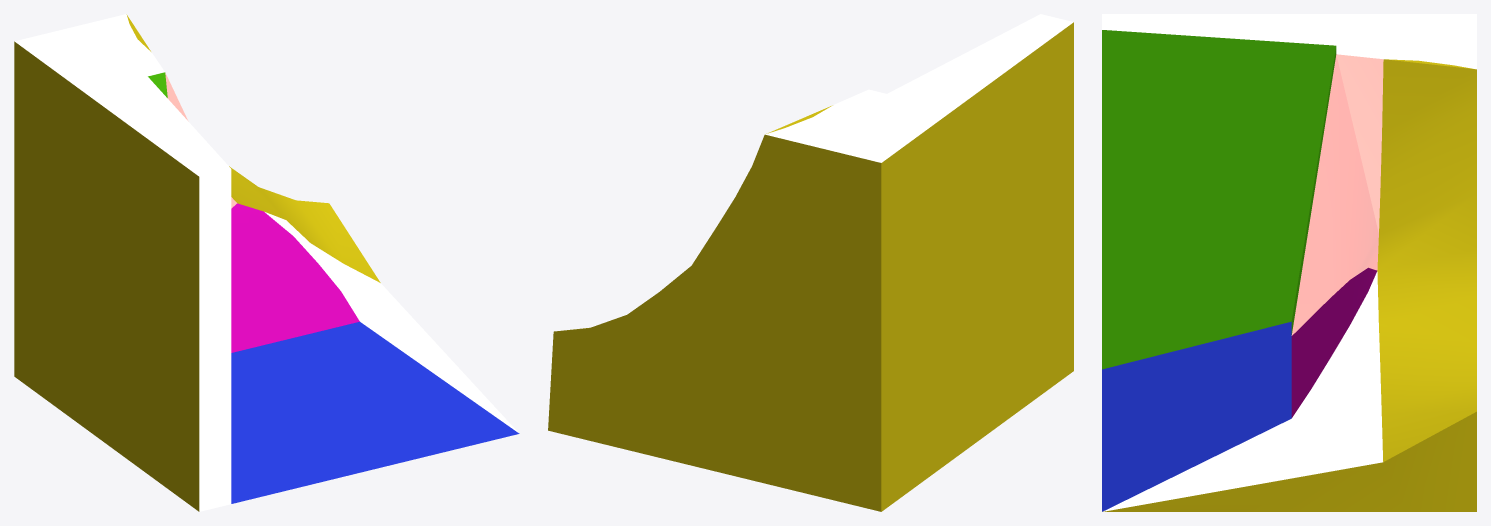
File: pvt.gltf
3 views of the same model, side by side, from view 1: azimuth 30°, elevation 25°; view 2: azimuth 150°, elevation 25°; view 3: azimuth 270°, elevation 25° (orthographic). The views are drawn at different scales.
Visible parts, largest first — view 1: Plane; view 2: Plane; view 3: Plane.
Part boxes in pixels (<box>): Plane: <box>14,14,519,511</box>; Plane: <box>548,14,1073,511</box>; Plane: <box>1102,14,1476,511</box>.
Size of the model in its own units: 1.92 by 1.92 by 1.92.
